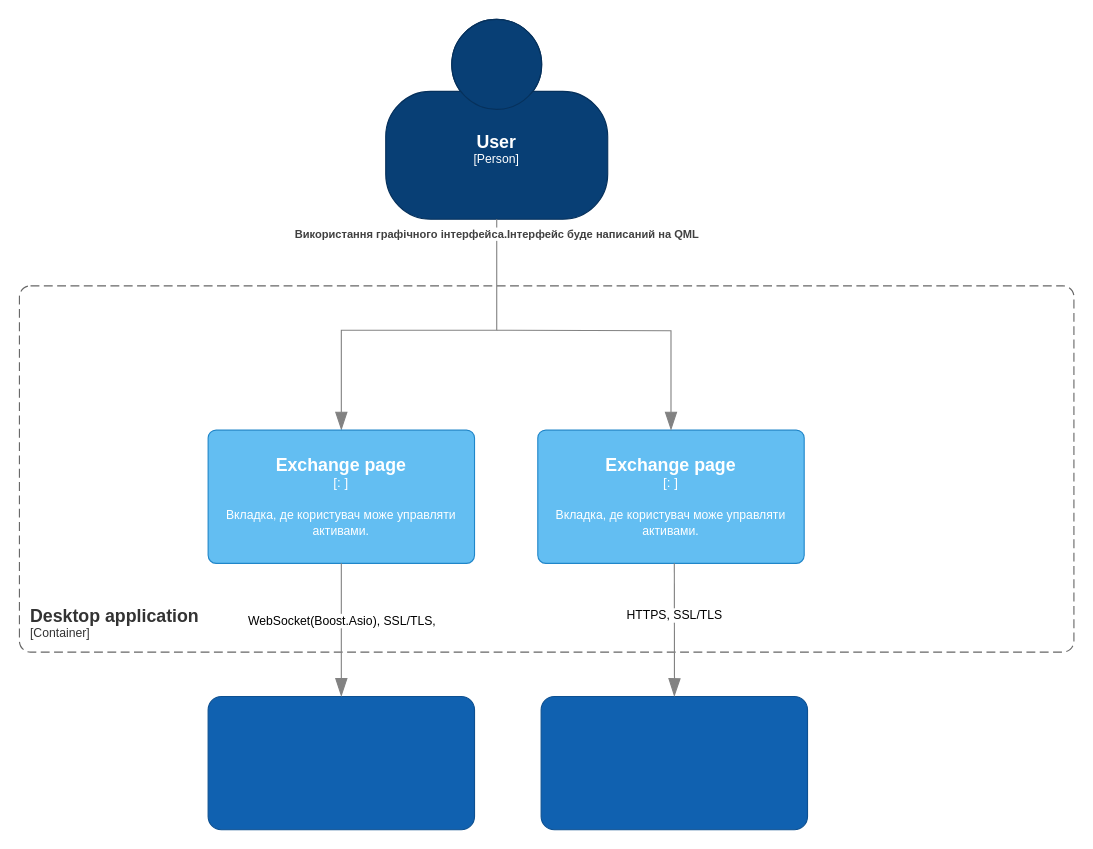
Some shapes in this 1093 by 849 pixel diagram are drawn without their labels. Here are the shapes that lost their labels. From the top down, the box of each, then its label:
(207, 695, 475, 830): Exchange Gateway [Software System] Всі дії повязані з біржою
(540, 695, 808, 830): User Gateway [Software System] Всі дії повязані з юзером
